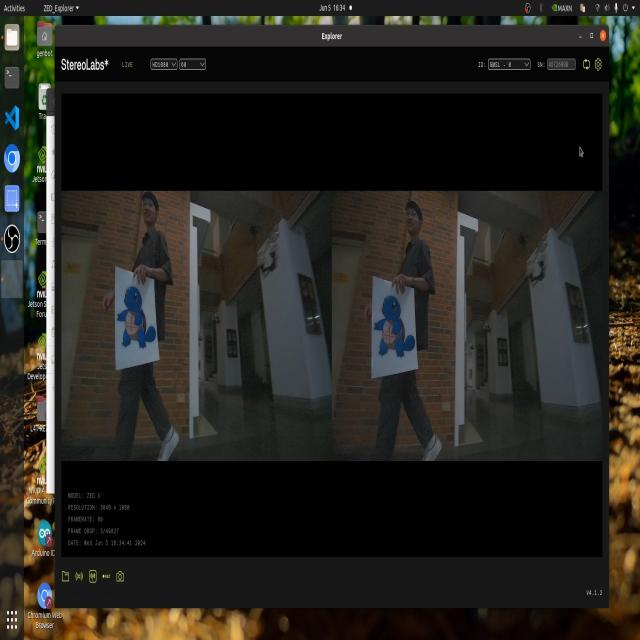blue: (370, 282, 416, 360), (120, 264, 156, 352)
